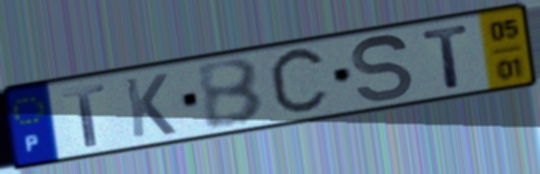B: (193, 56, 267, 133)
C: (265, 43, 333, 122)
K: (121, 71, 179, 141)
S: (349, 33, 417, 104)
T: (420, 21, 473, 91), (59, 81, 109, 149)
